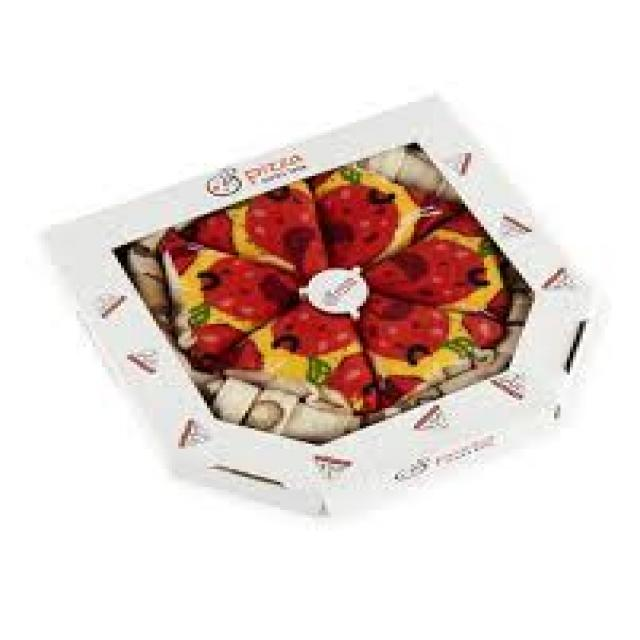organic waste: (156, 227, 299, 354), (356, 206, 509, 314), (220, 296, 372, 403), (354, 296, 503, 398), (191, 176, 318, 275), (309, 161, 407, 260)
